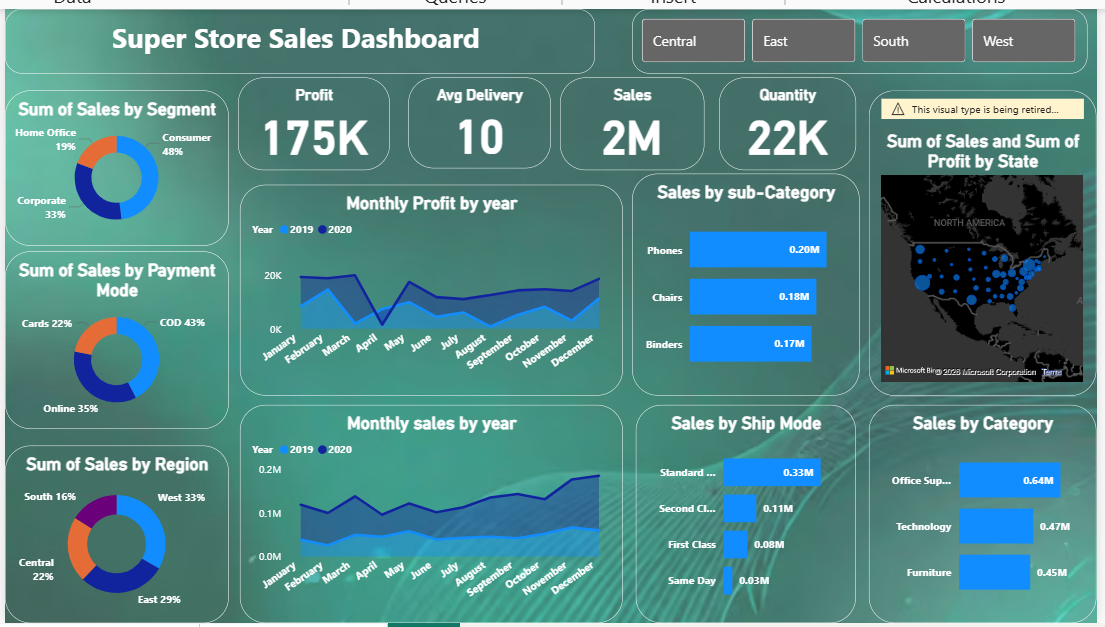

The dashboard page shown, as its layout file describes it:
{"tool":"powerbi","page":{"name":"Sales Dashboard","canvas":[1280,720],"ordinal":0},"visuals":[{"type":"clusteredBarChart","title":"Sales by Category","fields":{"Category":["SuperStore_Sales_Dataset-1.Category"],"Y":["Sum(SuperStore_Sales_Dataset-1.Sales)"]},"box":[1012.4,463.9,266.6,255.8],"z":0},{"type":"clusteredBarChart","title":"Sales by sub-Category","fields":{"Y":["Sum(SuperStore_Sales_Dataset-1.Sales)"],"Category":["SuperStore_Sales_Dataset-1.Sub-Category"]},"box":[734.9,192.9,266.6,260.1],"z":1000},{"type":"clusteredBarChart","title":"Sales by Ship Mode","fields":{"Y":["Sum(SuperStore_Sales_Dataset-1.Sales)"],"Category":["SuperStore_Sales_Dataset-1.Ship Mode"]},"box":[739.2,463.9,258,255.8],"z":2000},{"type":"stackedAreaChart","title":" Monthly sales by year","fields":{"Category":["SuperStore_Sales_Dataset-1.Order Date.Variation.Date Hierarchy.Month"],"Y":["Sum(SuperStore_Sales_Dataset-1.Sales)"],"Series":["SuperStore_Sales_Dataset-1.Order Date.Variation.Date Hierarchy.Year"]},"box":[275.3,463.9,448.7,255.8],"z":3000},{"type":"stackedAreaChart","title":" Monthly Profit by year","fields":{"Category":["SuperStore_Sales_Dataset-1.Order Date.Variation.Date Hierarchy.Month"],"Y":["Sum(SuperStore_Sales_Dataset-1.Profit)"],"Series":["SuperStore_Sales_Dataset-1.Order Date.Variation.Date Hierarchy.Year"]},"box":[275.3,205.9,448.7,247.1],"z":4000},{"type":"map","fields":{"Category":["SuperStore_Sales_Dataset-1.State"],"Size":["Sum(SuperStore_Sales_Dataset-1.Sales)"]},"box":[1012.4,95.4,266.6,357.7],"z":5000},{"type":"donutChart","fields":{"Category":["SuperStore_Sales_Dataset-1.Segment"],"Y":["Sum(SuperStore_Sales_Dataset-1.Sales)"]},"box":[0,95.4,262.3,182.1],"z":6000},{"type":"donutChart","fields":{"Category":["SuperStore_Sales_Dataset-1.Payment Mode"],"Y":["Sum(SuperStore_Sales_Dataset-1.Sales)"]},"box":[0,284,262.3,208.1],"z":7000},{"type":"donutChart","fields":{"Category":["SuperStore_Sales_Dataset-1.Region"],"Y":["Sum(SuperStore_Sales_Dataset-1.Sales)"]},"box":[0,511.6,262.3,208.1],"z":8000},{"type":"advancedSlicerVisual","fields":{"Values":["SuperStore_Sales_Dataset-1.Region"]},"box":[734.9,0,533.3,75.9],"z":9000},{"type":"textbox","box":[0,0,691.5,75.9],"z":10000},{"type":"card","title":"Sales","fields":{"Values":["Sum(SuperStore_Sales_Dataset-1.Sales)"]},"box":[650.4,80.2,169.1,108.4],"z":11000},{"type":"card","title":"Quantity","fields":{"Values":["Sum(SuperStore_Sales_Dataset-1.Quantity)"]},"box":[836.8,80.2,160.4,108.4],"z":12000},{"type":"card","title":"Profit","fields":{"Values":["Sum(SuperStore_Sales_Dataset-1.Profit)"]},"box":[273.2,80.2,177.8,108.4],"z":13000},{"type":"card","title":"Avg Delivery","fields":{"Values":["Avg(SuperStore_Sales_Dataset-1.AvgDelivery)"]},"box":[472.6,80.2,166.9,106.2],"z":14000}]}

Visuals, with their boxes on the page's 1280x720 design canvas (x1, y1, x2, y2). These are canvas units, not pixel positions in the 1105x627 screenshot, which may show the page scaled, cropped or inside an application window:
"Sales by Category" clusteredBarChart: <box>1012,464,1279,720</box>
"Sales by sub-Category" clusteredBarChart: <box>735,193,1002,453</box>
"Sales by Ship Mode" clusteredBarChart: <box>739,464,997,720</box>
" Monthly sales by year" stackedAreaChart: <box>275,464,724,720</box>
" Monthly Profit by year" stackedAreaChart: <box>275,206,724,453</box>
map - SuperStore_Sales_Dataset-1.State x Sum(SuperStore_Sales_Dataset-1.Sales): <box>1012,95,1279,453</box>
donutChart - SuperStore_Sales_Dataset-1.Segment x Sum(SuperStore_Sales_Dataset-1.Sales): <box>0,95,262,278</box>
donutChart - SuperStore_Sales_Dataset-1.Payment Mode x Sum(SuperStore_Sales_Dataset-1.Sales): <box>0,284,262,492</box>
donutChart - SuperStore_Sales_Dataset-1.Region x Sum(SuperStore_Sales_Dataset-1.Sales): <box>0,512,262,720</box>
advancedSlicerVisual - SuperStore_Sales_Dataset-1.Region: <box>735,0,1268,76</box>
textbox: <box>0,0,692,76</box>
"Sales" card: <box>650,80,820,189</box>
"Quantity" card: <box>837,80,997,189</box>
"Profit" card: <box>273,80,451,189</box>
"Avg Delivery" card: <box>473,80,640,186</box>
